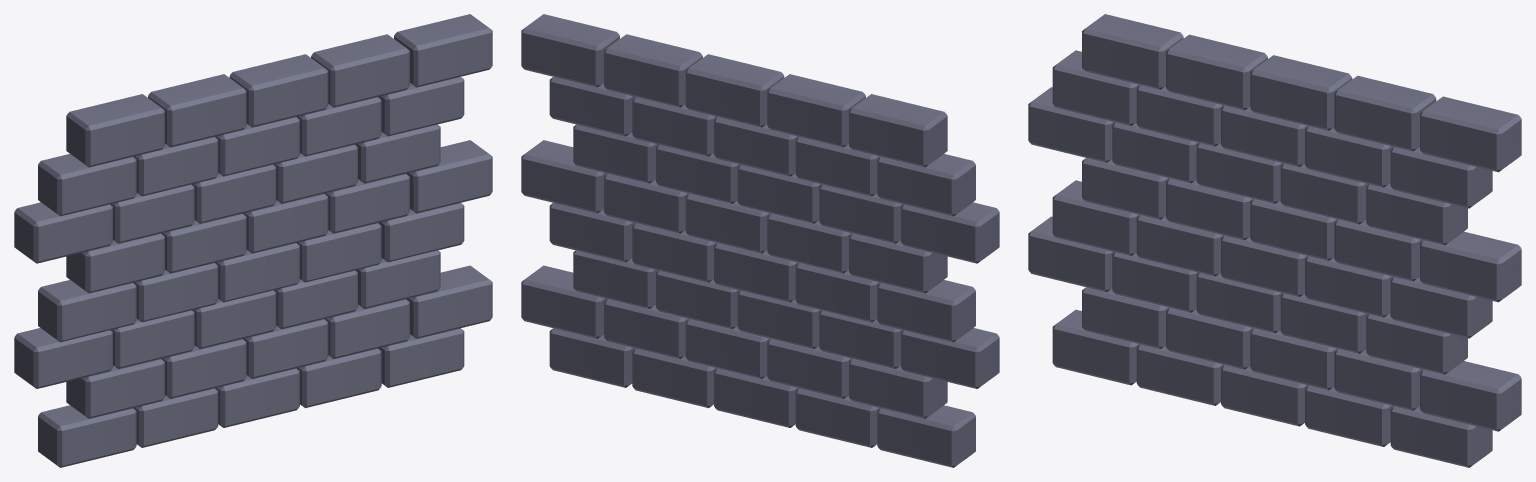
File: wall-pieces.glb
The picture shows the model from 3 angles, left to right: view 1: azimuth 30°, elevation 25°; view 2: azimuth 150°, elevation 25°; view 3: azimuth 330°, elevation 25°; orthographic projection. The views are drawn at different scales.
Visible parts, largest first — view 1: Cube.037, Cube.039, Cube.035, Cube.036, Cube.038, Cube.002, Cube.032, Cube.017, Cube.027, Cube.012, Cube.009, Cube.024 (+28 smaller); view 2: Cube.037, Cube.039, Cube.035, Cube.036, Cube.038, Cube.002, Cube.032, Cube.017, Cube.027, Cube.012, Cube.009, Cube.024 (+28 smaller); view 3: Cube.039, Cube.009, Cube.024, Cube.036, Cube.035, Cube.038, Cube.037, Cube.004, Cube.034, Cube.019, Cube.029, Cube.014 (+28 smaller).
Part boxes in pixels (<box>): Cube.037: <box>66,94,164,167</box>; Cube.039: <box>394,14,492,87</box>; Cube.035: <box>229,54,328,127</box>; Cube.036: <box>311,34,409,107</box>; Cube.038: <box>148,74,246,147</box>; Cube.002: <box>38,405,136,467</box>; Cube.032: <box>38,154,136,216</box>; Cube.017: <box>38,280,136,342</box>; Cube.027: <box>14,202,112,263</box>; Cube.012: <box>14,328,112,388</box>; Cube.009: <box>406,265,492,338</box>; Cube.024: <box>406,140,492,213</box>; Cube.037: <box>849,94,947,167</box>; Cube.039: <box>521,14,619,87</box>; Cube.035: <box>685,54,784,127</box>; Cube.036: <box>604,34,702,107</box>; Cube.038: <box>767,74,865,147</box>; Cube.002: <box>877,405,975,467</box>; Cube.032: <box>877,154,975,216</box>; Cube.017: <box>877,280,975,342</box>; Cube.027: <box>901,202,999,263</box>; Cube.012: <box>901,328,999,388</box>; Cube.009: <box>521,265,607,338</box>; Cube.024: <box>521,140,607,213</box>; Cube.039: <box>1420,96,1521,172</box>; Cube.009: <box>1420,361,1521,431</box>; Cube.024: <box>1420,231,1521,302</box>; Cube.036: <box>1334,75,1436,151</box>; Cube.035: <box>1250,55,1352,130</box>; Cube.038: <box>1166,34,1267,110</box>; Cube.037: <box>1082,14,1183,89</box>; Cube.004: <box>1390,406,1492,467</box>; Cube.034: <box>1390,147,1492,208</box>; Cube.019: <box>1390,277,1492,338</box>; Cube.029: <box>1366,183,1467,245</box>; Cube.014: <box>1366,313,1467,374</box>.
Bounding box in the file's own units: 17.31 × 12.07 × 1.5.
1 material, 1 textured.
